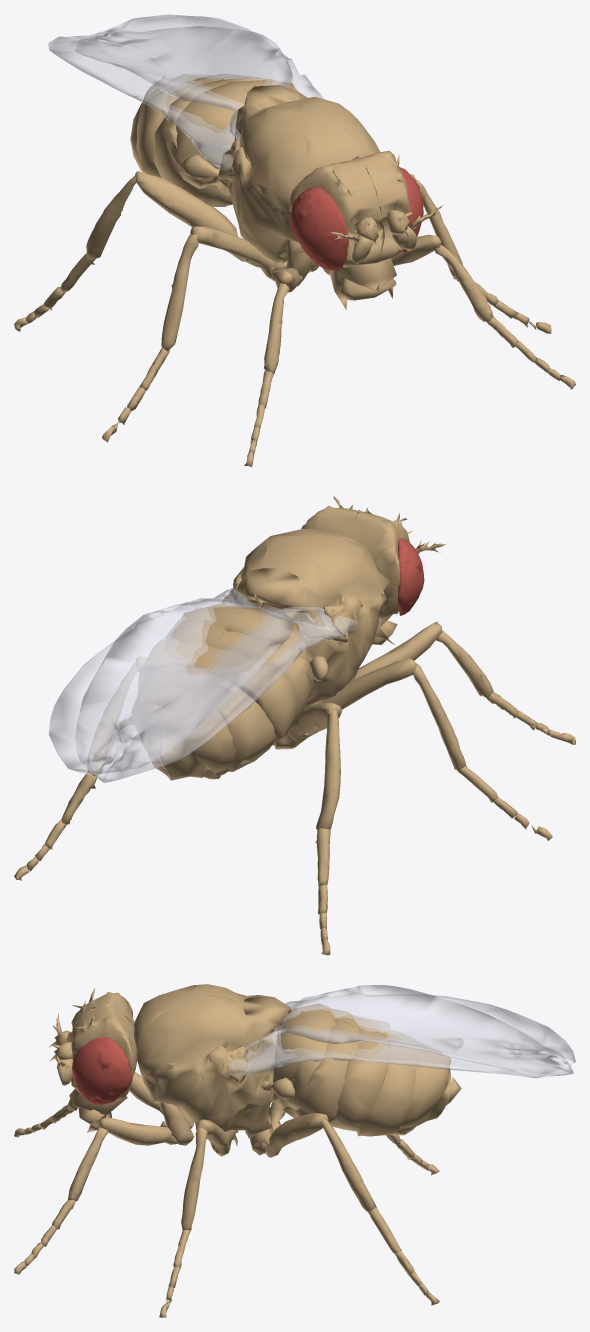
The model's file is fly.glb.
3 views of the same model, one above another, from view 1: azimuth 30°, elevation 25°; view 2: azimuth 150°, elevation 25°; view 3: azimuth 270°, elevation 25° (orthographic). The views are drawn at different scales.
Parts seen in each view (by area): view 1: thorax, wing_R, wing_L, abdomen, head, eye_R, leg_RH_femur, leg_RM_tibia, leg_RM_femur, leg_RH_tibia, leg_LF_tibia, leg_RF_tibia (+12 smaller); view 2: abdomen, wing_R, wing_L, thorax, head, leg_RH_tibia, leg_RM_femur, leg_LH_tibia, eye_R, leg_RF_femur, leg_RM_tibia, leg_RH_femur (+5 smaller); view 3: abdomen, thorax, wing_L, wing_R, head, eye_L, leg_LF_femur, leg_LH_femur, leg_LH_tibia, leg_LM_tibia, leg_LH_tarsus, leg_LF_tibia (+9 smaller).
Boxes of the visible parts, box(x1,y1,x2,y2) form: thorax: box(217, 85, 380, 264); wing_R: box(48, 26, 292, 172); wing_L: box(75, 14, 323, 110); abdomen: box(130, 74, 297, 206); head: box(289, 150, 409, 309); eye_R: box(290, 187, 348, 270); leg_RH_femur: box(135, 171, 244, 261); leg_RM_tibia: box(161, 234, 198, 351); leg_RM_femur: box(190, 226, 275, 281); leg_RH_tibia: box(86, 175, 136, 259); leg_LF_tibia: box(434, 245, 493, 321); leg_RF_tibia: box(264, 283, 289, 374); abdomen: box(132, 604, 313, 780); wing_R: box(75, 598, 357, 782); wing_L: box(49, 587, 293, 774); thorax: box(221, 528, 392, 708); head: box(301, 496, 409, 644); leg_RH_tibia: box(316, 710, 340, 830); leg_RM_femur: box(322, 658, 417, 709); leg_LH_tibia: box(87, 662, 138, 776); eye_R: box(397, 538, 424, 615); leg_RF_femur: box(354, 621, 442, 679); leg_RM_tibia: box(412, 664, 466, 770); leg_RH_femur: box(275, 702, 342, 749); abdomen: box(271, 1003, 461, 1136); thorax: box(134, 984, 291, 1138); wing_L: box(226, 985, 573, 1078); wing_R: box(278, 992, 575, 1073); head: box(65, 988, 137, 1132); eye_L: box(72, 1037, 131, 1104); leg_LF_femur: box(99, 1117, 184, 1145); leg_LH_femur: box(265, 1113, 328, 1157); leg_LH_tibia: box(320, 1119, 376, 1212); leg_LM_tibia: box(181, 1126, 207, 1230); leg_LH_tarsus: box(368, 1206, 439, 1305); leg_LF_tibia: box(67, 1127, 108, 1201).
Bounding box in the file's own units: 1.11 × 0.6677 × 1.38.
